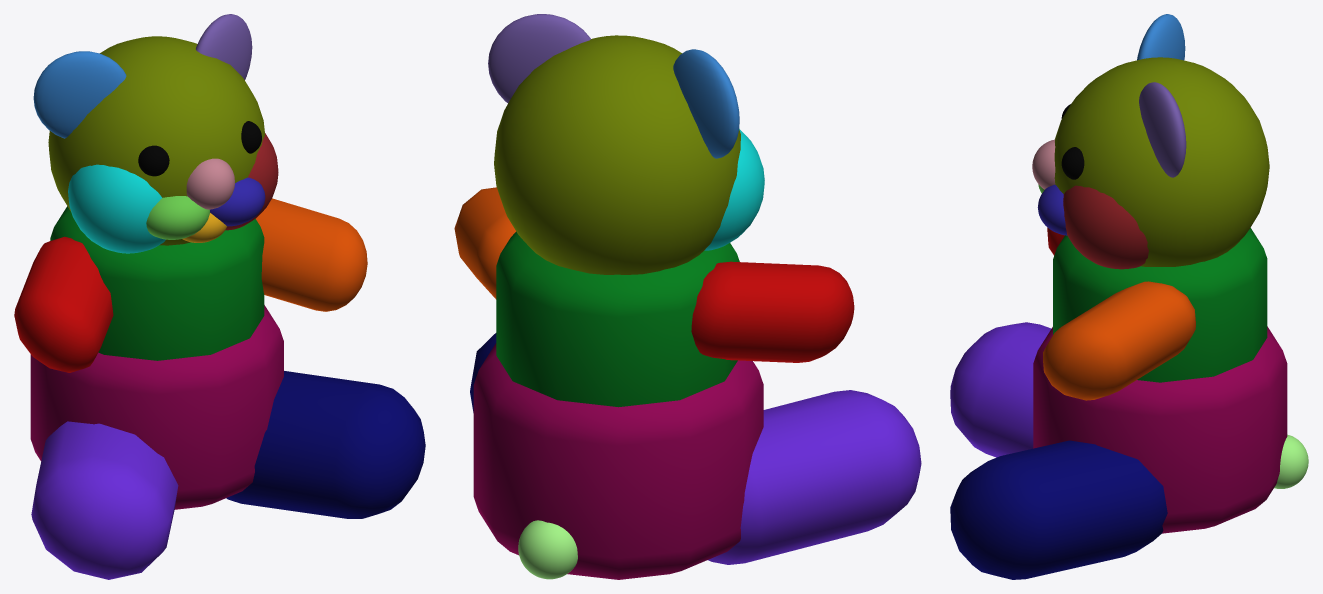
File: Teddy(1) 1.fbx
The picture shows the model from 3 angles, left to right: view 1: azimuth 30°, elevation 25°; view 2: azimuth 150°, elevation 25°; view 3: azimuth 270°, elevation 25°; orthographic projection. The views are drawn at different scales.
Parts seen in each view (by area): view 1: Capsule022; view 2: Capsule022; view 3: Capsule022.
Boxes of the visible parts, <box> form: Capsule022: <box>14,14,425,579</box>; Capsule022: <box>454,14,921,579</box>; Capsule022: <box>950,14,1308,579</box>.
Bounding box in the file's own units: 42.08 × 49.04 × 34.42.
